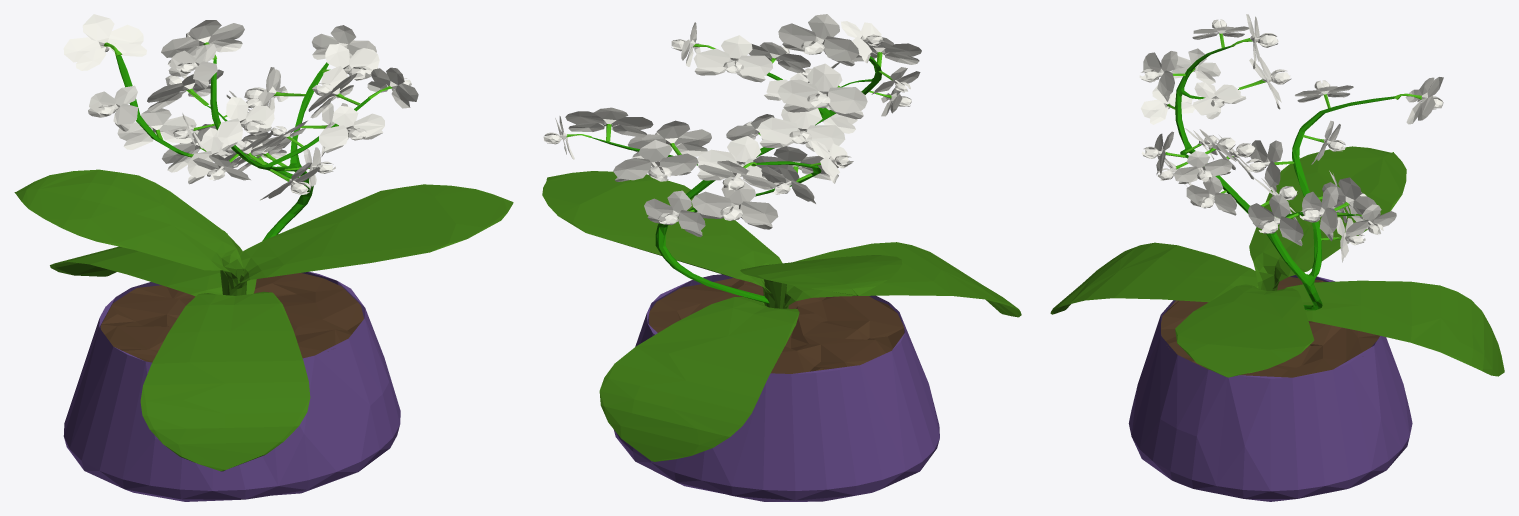
File: sh-bs0-orchids.glb
3 views of the same model, side by side, from view 1: azimuth 30°, elevation 25°; view 2: azimuth 150°, elevation 25°; view 3: azimuth 270°, elevation 25° (orthographic). The views are drawn at different scales.
Parts seen in each view (by area): view 1: Leaf.003_Plane.003, Pot_Cylinder, Flower.024_Plane.029, Pot.001_Cylinder.003, stalk_Cylinder.002; view 2: Leaf.003_Plane.003, Flower.024_Plane.029, Pot_Cylinder, Pot.001_Cylinder.003, stalk_Cylinder.002; view 3: Leaf.003_Plane.003, Pot_Cylinder, Flower.024_Plane.029, Pot.001_Cylinder.003, stalk_Cylinder.002.
Part boxes in pixels (x1,y1,x2,y2): Leaf.003_Plane.003: (14,169,513,471); Pot_Cylinder: (63,271,400,501); Flower.024_Plane.029: (63,14,418,200); Pot.001_Cylinder.003: (100,273,363,362); stalk_Cylinder.002: (116,55,370,240); Leaf.003_Plane.003: (542,171,1021,461); Flower.024_Plane.029: (543,14,921,237); Pot_Cylinder: (613,274,939,501); Pot.001_Cylinder.003: (649,278,904,373); stalk_Cylinder.002: (591,56,881,303); Leaf.003_Plane.003: (1050,146,1504,377); Pot_Cylinder: (1128,275,1412,501); Flower.024_Plane.029: (1139,14,1443,262); Pot.001_Cylinder.003: (1161,276,1379,377); stalk_Cylinder.002: (1175,45,1395,310).
Size of the model in its own units: 0.9999 by 0.9933 by 1.
